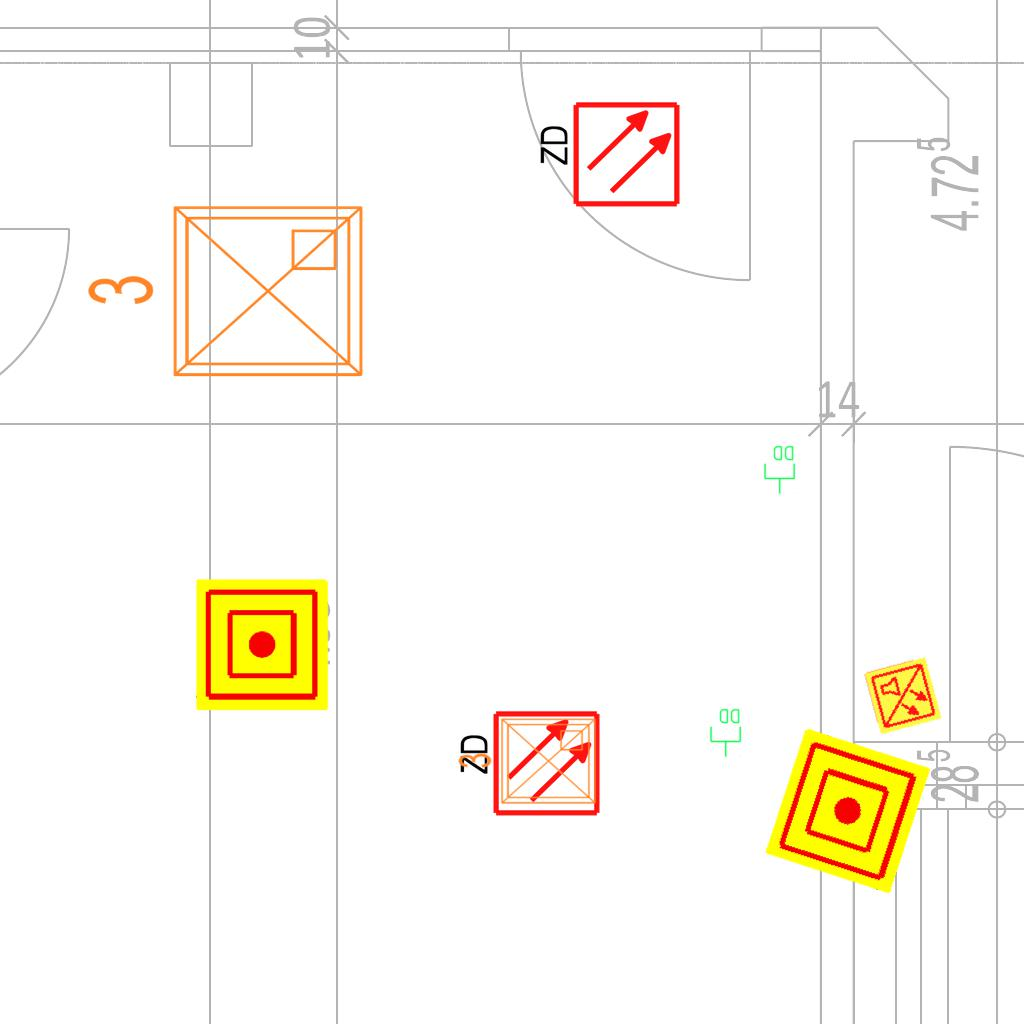Datenanschluss_zweifach: (763, 444, 797, 495), (709, 707, 743, 758)
Einbaudownlights_LED_Konferenzraeume: (77, 191, 377, 399), (453, 711, 603, 815)
NAM-Nichtautomatischer_Melder: (764, 727, 932, 895), (196, 579, 328, 711)
OKW_Multisensormelder_(Kombination_optischer_Rauch-Kahlenmonoxid_Waerme-Melder): (862, 655, 944, 737)
ZD_Melder_in_Zwischendecke_mit_Revisionsoeffnung_mind_40_x_40_cm: (533, 99, 682, 213), (453, 708, 602, 822)
